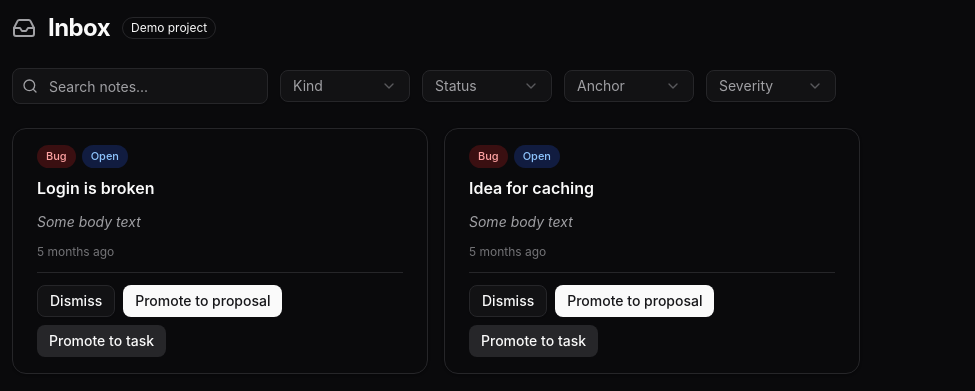
Test case: NotesPage › free-text narrows the rendered cards to the server FTS hits (debounced)
The image size is (975, 391).
Type "caching" into the field with placeholder "Search notes...".
click(140, 86); type("caching")  # box [12,68,268,104]
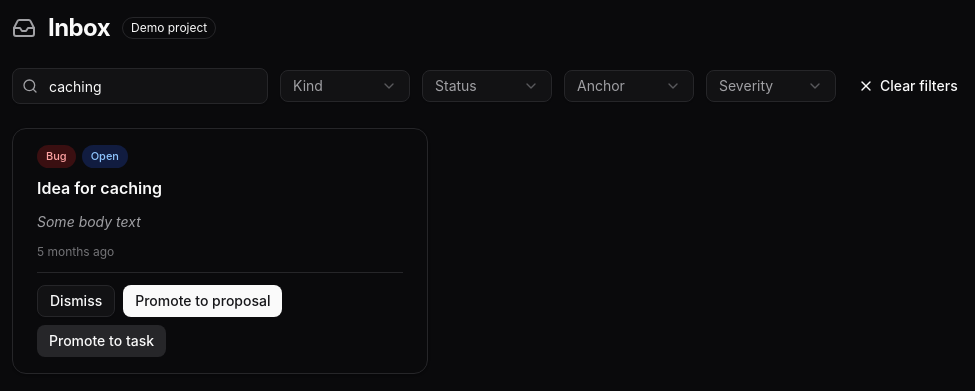
Expected: the button "Idea for caching" is shown, [37,176,162,200]
Expected: the button "Login is broken" is gone
